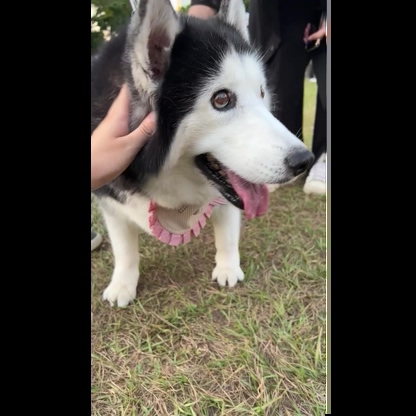husky: (93, 5, 316, 308)
